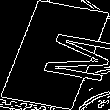M_W: (10, 26, 100, 84)
